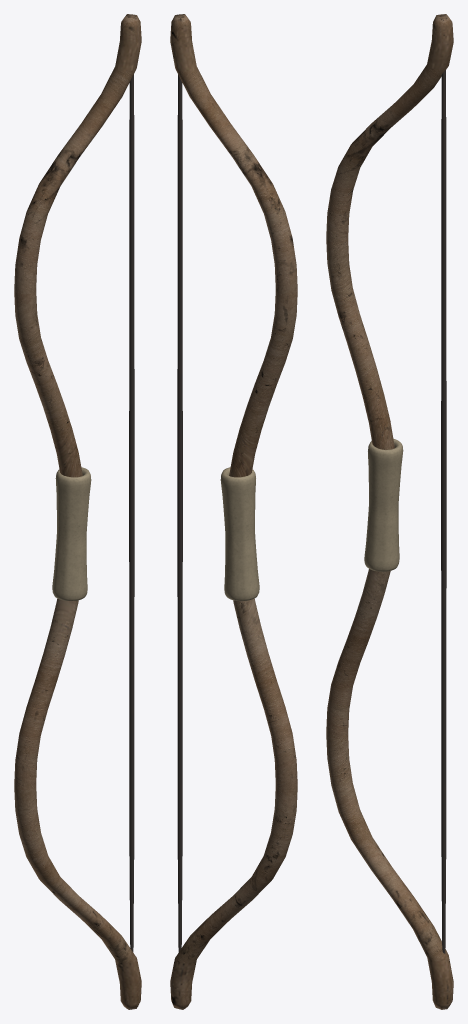
File: bow.glb
The picture shows the model from 3 angles, left to right: view 1: azimuth 30°, elevation 25°; view 2: azimuth 150°, elevation 25°; view 3: azimuth 330°, elevation 25°; orthographic projection.
Visible parts, largest first — view 1: group12 (×3); view 2: group12 (×3); view 3: group12 (×3).
Part boxes in pixels (<box>): group12 (×3): <box>14,14,141,1009</box>; group12 (×3): <box>170,14,297,1009</box>; group12 (×3): <box>326,14,453,1009</box>.
Size of the model in its own units: 1.49 by 11.26 by 0.3708.
3 materials, 3 textured.
